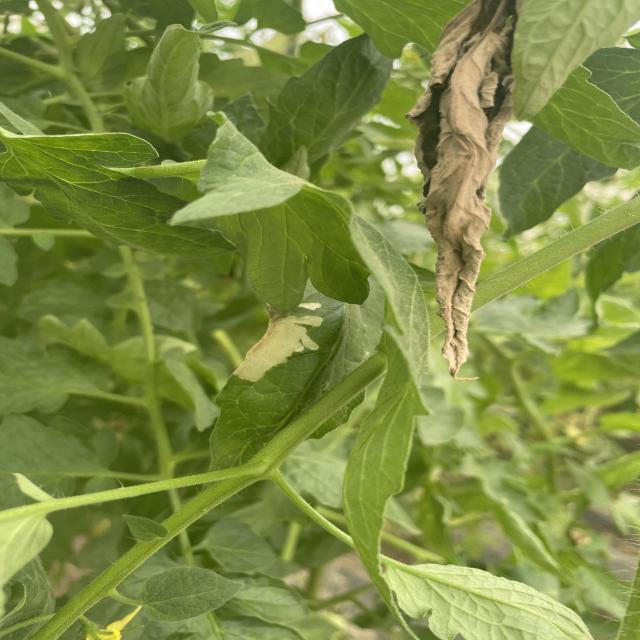Tuta absoluta: (233, 295, 333, 405)
